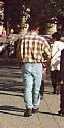person: (12, 17, 48, 115)
